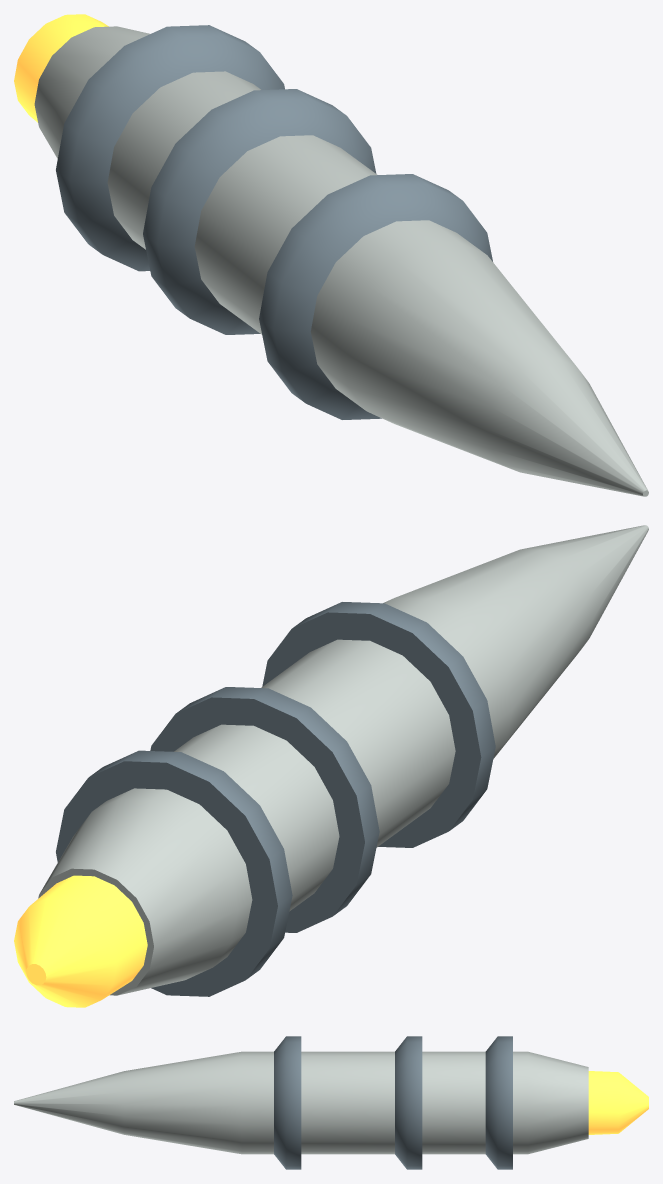
Rendered from zb_assault_rifle.glb.
3 views of the same model, one above another, from view 1: azimuth 30°, elevation 25°; view 2: azimuth 150°, elevation 25°; view 3: azimuth 270°, elevation 25° (orthographic). The views are drawn at different scales.
Parts seen in each view (by area): view 1: zb_assault_rifle / Ivory ceramic, zb_assault_rifle / Machined titanium, zb_assault_rifle / Tracer ember; view 2: zb_assault_rifle / Ivory ceramic, zb_assault_rifle / Machined titanium, zb_assault_rifle / Tracer ember; view 3: zb_assault_rifle / Ivory ceramic, zb_assault_rifle / Machined titanium, zb_assault_rifle / Tracer ember.
Part boxes in pixels (x1,y1,x2,y2): zb_assault_rifle / Ivory ceramic: [34, 26, 648, 496]; zb_assault_rifle / Machined titanium: [56, 25, 492, 419]; zb_assault_rifle / Tracer ember: [14, 14, 108, 122]; zb_assault_rifle / Ivory ceramic: [38, 525, 648, 995]; zb_assault_rifle / Machined titanium: [56, 602, 495, 996]; zb_assault_rifle / Tracer ember: [14, 875, 147, 1007]; zb_assault_rifle / Ivory ceramic: [14, 1051, 588, 1154]; zb_assault_rifle / Machined titanium: [274, 1036, 512, 1169]; zb_assault_rifle / Tracer ember: [588, 1071, 648, 1134].
Size of the model in its own units: 4.42 by 4.42 by 21.
